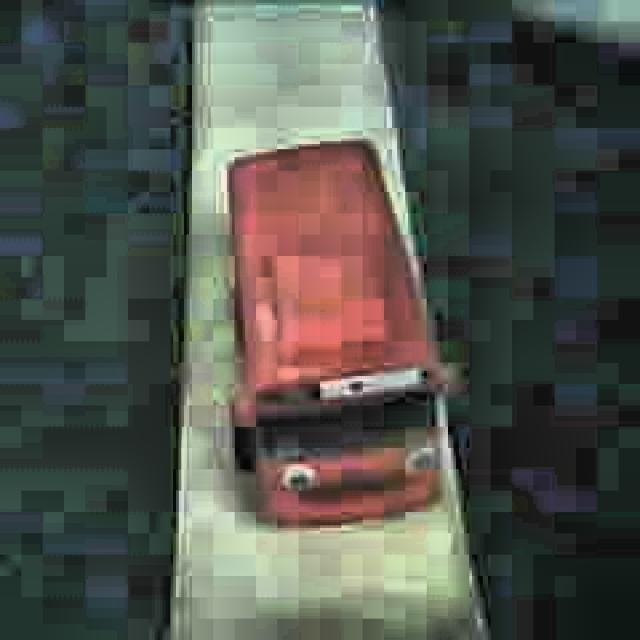bus: (219, 136, 455, 534)
